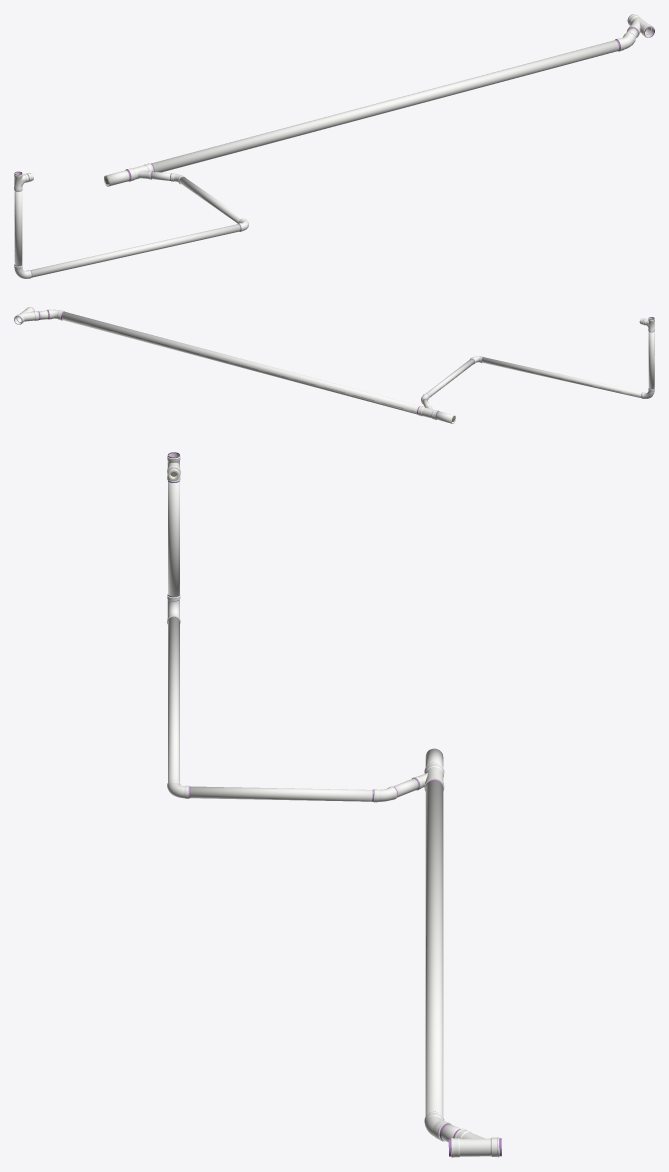
The model's file is slab_pipes_dwv__sewer__fafaa492.glb.
3 renders of one model, top to bottom at view 1: azimuth 30°, elevation 25°; view 2: azimuth 150°, elevation 25°; view 3: azimuth 270°, elevation 25°, orthographic. The views are drawn at different scales.
Parts seen in each view (by area): view 1: pipe_dwv_building_drain_west__quarter, pipe_dwv_kitchen__quarter, fit_wye_pipe_dwv_building_drain_west__quarter; view 2: pipe_dwv_building_drain_west__quarter, pipe_dwv_kitchen__quarter, fit_wye_pipe_dwv_building_drain_west__quarter, fit_wye_pipe_dwv_kitchen__quarter; view 3: pipe_dwv_building_drain_west__quarter, pipe_dwv_kitchen__quarter, fit_wye_pipe_dwv_building_drain_west__quarter.
Part boxes in pixels (<box>): pipe_dwv_building_drain_west__quarter: <box>104,28,637,186</box>; pipe_dwv_kitchen__quarter: <box>14,171,248,278</box>; fit_wye_pipe_dwv_building_drain_west__quarter: <box>627,14,654,37</box>; pipe_dwv_building_drain_west__quarter: <box>39,309,455,423</box>; pipe_dwv_kitchen__quarter: <box>421,332,654,407</box>; fit_wye_pipe_dwv_building_drain_west__quarter: <box>14,307,40,324</box>; fit_wye_pipe_dwv_kitchen__quarter: <box>417,405,438,419</box>; pipe_dwv_building_drain_west__quarter: <box>424,748,460,1142</box>; pipe_dwv_kitchen__quarter: <box>167,474,418,802</box>; fit_wye_pipe_dwv_building_drain_west__quarter: <box>448,1128,501,1157</box>.
Size of the model in its own units: 6.54 by 1.01 by 1.69.
